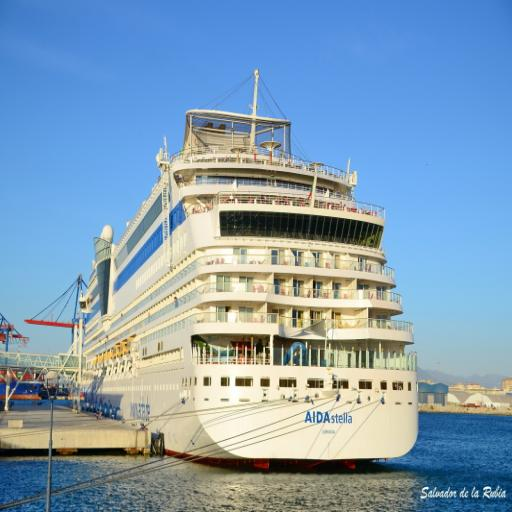cruises: (75, 65, 423, 481)
